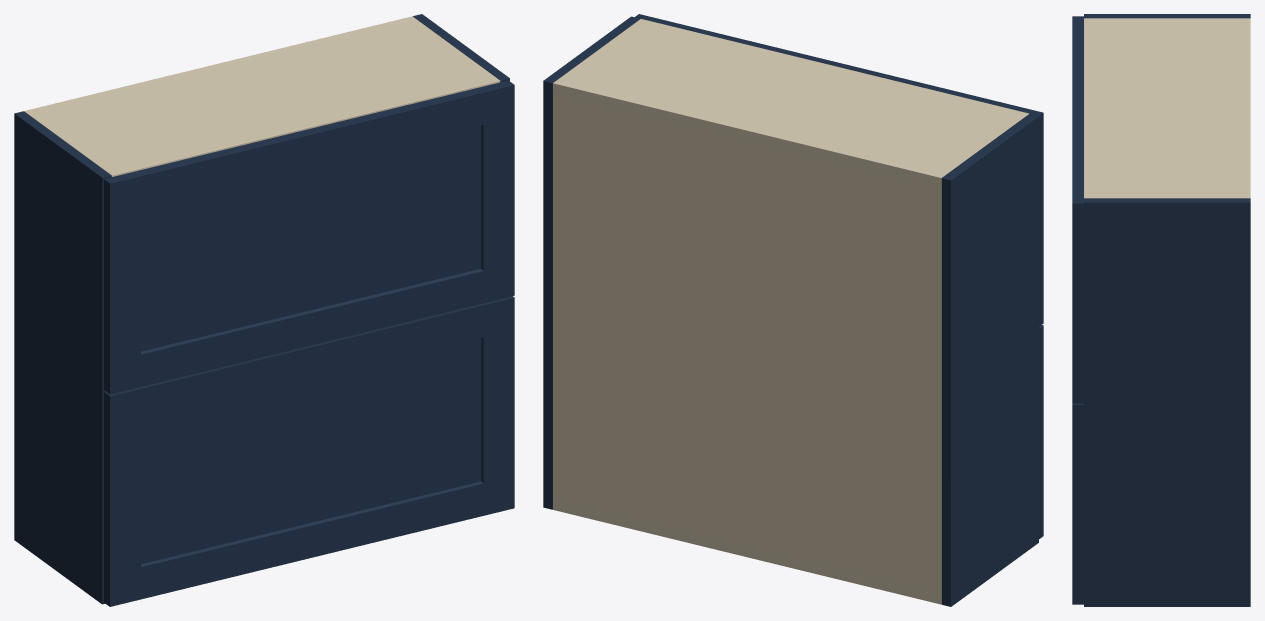
Rendered from oppein-ply-bss-wbf3030.glb.
3 renders of one model, left to right at view 1: azimuth 30°, elevation 25°; view 2: azimuth 150°, elevation 25°; view 3: azimuth 270°, elevation 25°, orthographic. The views are drawn at different scales.
Parts seen in each view (by area): view 1: Door.001, Door, Cabinet side, Cabinet top, Cabinet back, Cabinet side.001; view 2: Cabinet back, Cabinet side, Cabinet top, Cabinet side.001, Cabinet bottom, Door.001, Door; view 3: Cabinet side.001, Cabinet top, Door.001, Door, Cabinet back, Cabinet side.
Boxes of the visible parts, left/top/right/bottom form: Door.001: left=104, top=80, right=514, bottom=394; Door: left=104, top=296, right=514, bottom=606; Cabinet side: left=14, top=111, right=111, bottom=604; Cabinet top: left=24, top=18, right=500, bottom=176; Cabinet back: left=24, top=16, right=415, bottom=113; Cabinet side.001: left=413, top=14, right=509, bottom=82; Cabinet back: left=553, top=80, right=944, bottom=604; Cabinet side: left=941, top=113, right=1038, bottom=606; Cabinet top: left=553, top=19, right=1028, bottom=187; Cabinet side.001: left=543, top=16, right=640, bottom=509; Cabinet bottom: left=553, top=500, right=941, bottom=604; Door.001: left=635, top=14, right=1043, bottom=326; Door: left=1039, top=325, right=1043, bottom=538; Cabinet side.001: left=1084, top=198, right=1250, bottom=606; Cabinet top: left=1084, top=18, right=1250, bottom=198; Door.001: left=1072, top=16, right=1083, bottom=403; Door: left=1072, top=403, right=1083, bottom=604; Cabinet back: left=1244, top=18, right=1250, bottom=198; Cabinet side: left=1084, top=14, right=1250, bottom=18.
Bounding box in the file's own units: 0.762 × 0.762 × 0.3048.
